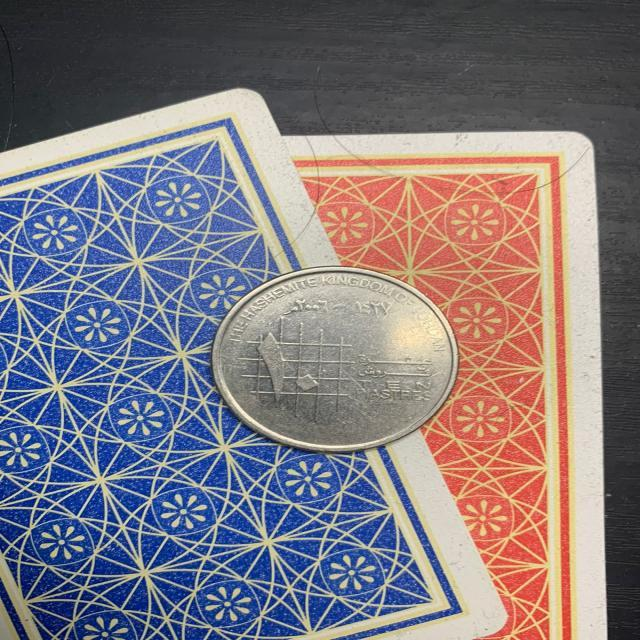10-coins: (212, 264, 458, 452)
